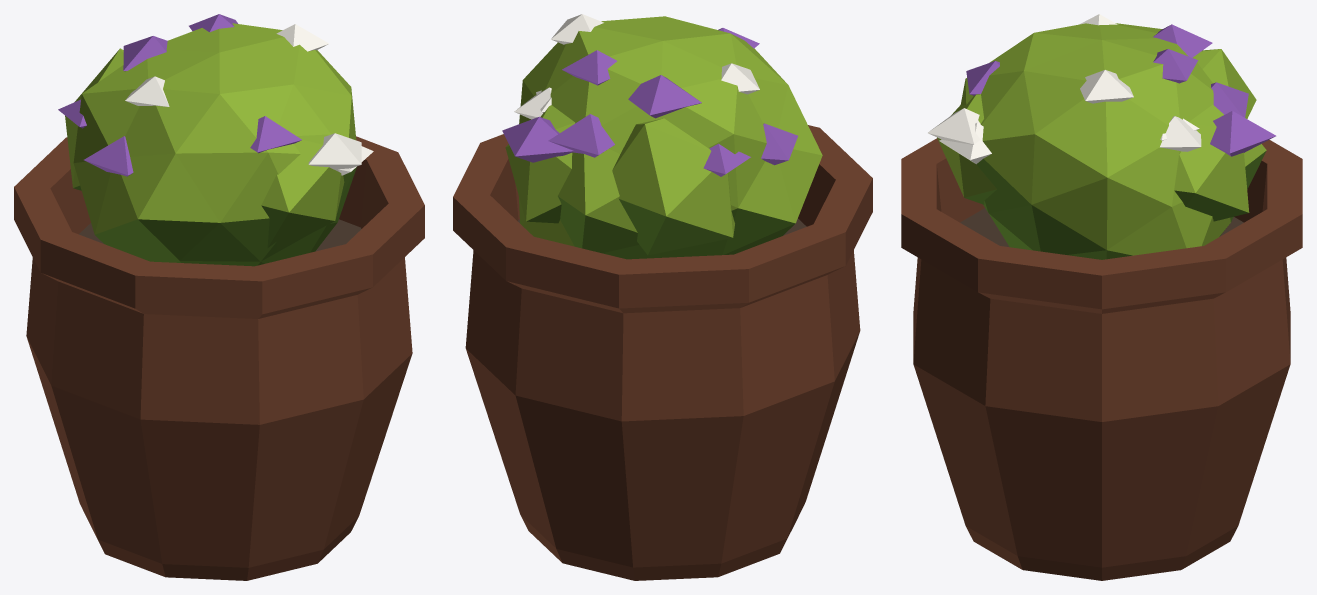
File: SM_Street_Pot_Glazed_M_FlowerPurple_01.gltf
3 renders of one model, left to right at view 1: azimuth 30°, elevation 25°; view 2: azimuth 150°, elevation 25°; view 3: azimuth 270°, elevation 25°, orthographic. The views are drawn at different scales.
Parts seen in each view (by area): view 1: SM_Street_Pot_Glazed_M_FlowerPurple_01; view 2: SM_Street_Pot_Glazed_M_FlowerPurple_01; view 3: SM_Street_Pot_Glazed_M_FlowerPurple_01.
Boxes of the visible parts, left/top/right/bottom form: SM_Street_Pot_Glazed_M_FlowerPurple_01: left=14, top=14, right=424, bottom=580; SM_Street_Pot_Glazed_M_FlowerPurple_01: left=453, top=14, right=872, bottom=580; SM_Street_Pot_Glazed_M_FlowerPurple_01: left=901, top=14, right=1302, bottom=580.
Size of the model in its own units: 0.34 by 0.4381 by 0.3234.
Materials: 1 (1 with a texture image).
